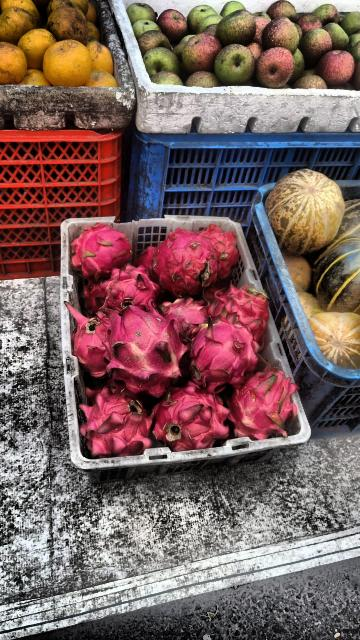buah-naga-belum-matang: (101, 304, 191, 394), (187, 312, 261, 384)
buah-naga-matang: (72, 377, 156, 455), (224, 367, 300, 439), (145, 230, 222, 300), (150, 379, 228, 448), (200, 273, 270, 337), (62, 298, 118, 378), (87, 264, 161, 310), (200, 218, 242, 282), (69, 225, 131, 268)
